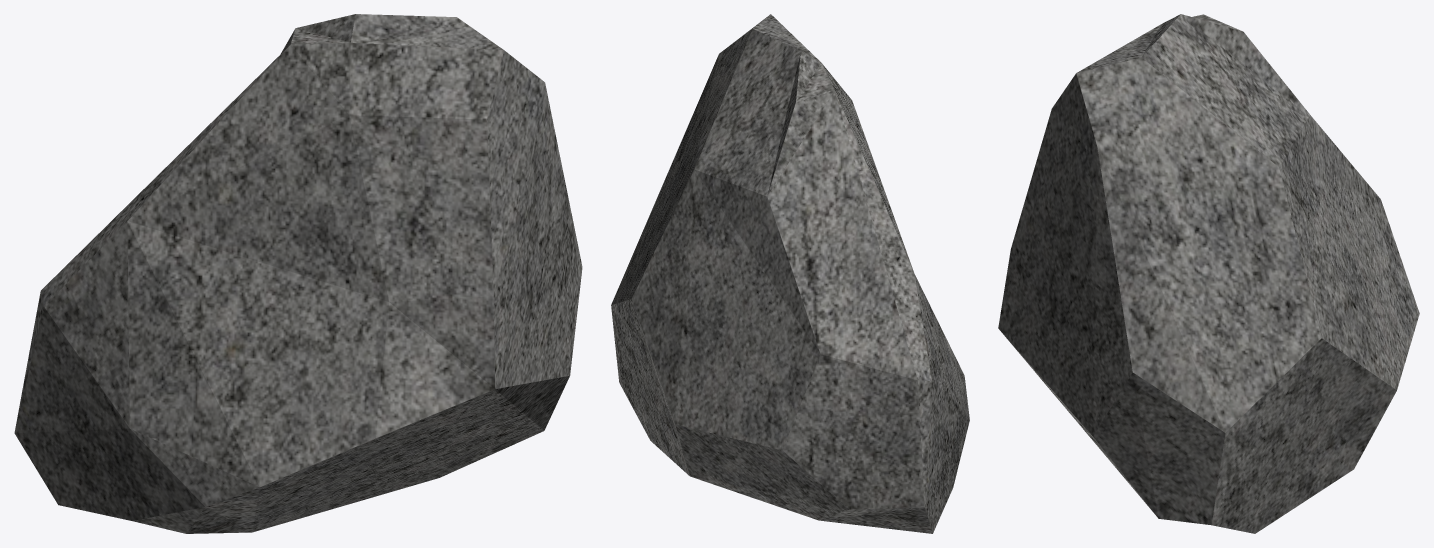
The model's file is roccia_piccola_5.fbx.
The picture shows the model from 3 angles, left to right: view 1: azimuth 30°, elevation 25°; view 2: azimuth 150°, elevation 25°; view 3: azimuth 270°, elevation 25°; orthographic projection. The views are drawn at different scales.
Visible parts, largest first — view 1: roccia_piccola_5; view 2: roccia_piccola_5; view 3: roccia_piccola_5.
Boxes of the visible parts, bbox=[...] form: roccia_piccola_5: bbox=[14, 14, 582, 533]; roccia_piccola_5: bbox=[611, 14, 969, 533]; roccia_piccola_5: bbox=[998, 14, 1419, 533].
Size of the model in its own units: 25.99 by 27.04 by 22.19.
